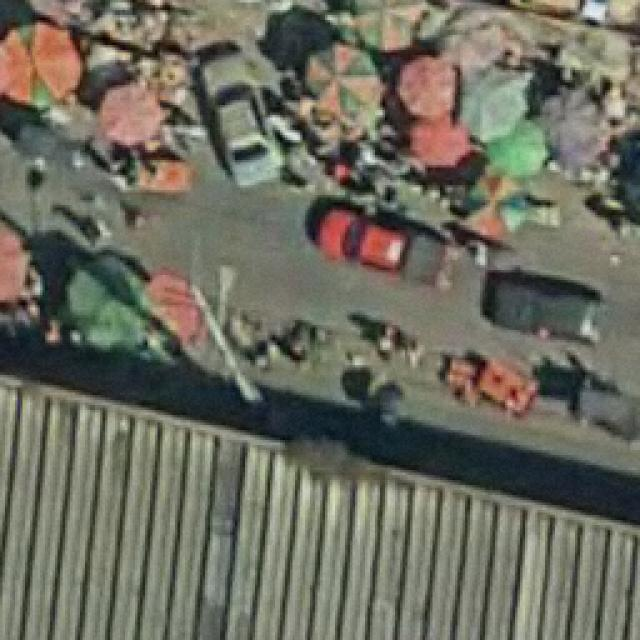vendedor_ambulante: (0, 13, 85, 112), (62, 254, 154, 345), (304, 43, 384, 120), (463, 168, 534, 242), (346, 0, 434, 55), (395, 49, 462, 117), (458, 72, 526, 138), (540, 88, 604, 158), (98, 82, 165, 146), (488, 116, 550, 177), (411, 114, 472, 170)
